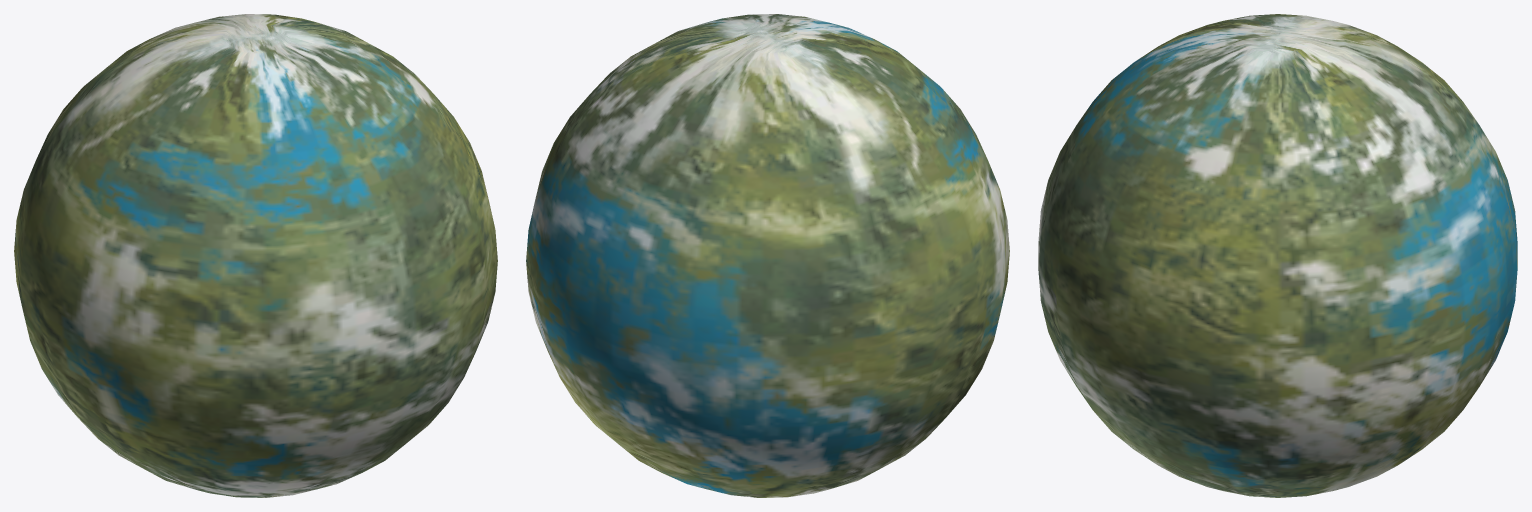
File: ui_planet_sel_talu.fbx
3 views of the same model, side by side, from view 1: azimuth 30°, elevation 25°; view 2: azimuth 150°, elevation 25°; view 3: azimuth 270°, elevation 25° (orthographic).
Visible parts, largest first — view 1: mesh_node; view 2: mesh_node; view 3: mesh_node.
Boxes of the visible parts, bbox=[...] form: mesh_node: bbox=[14, 14, 497, 497]; mesh_node: bbox=[526, 14, 1009, 497]; mesh_node: bbox=[1038, 14, 1517, 497].
Size of the model in its own units: 2 by 2 by 1.98.
1 material, 1 textured.
